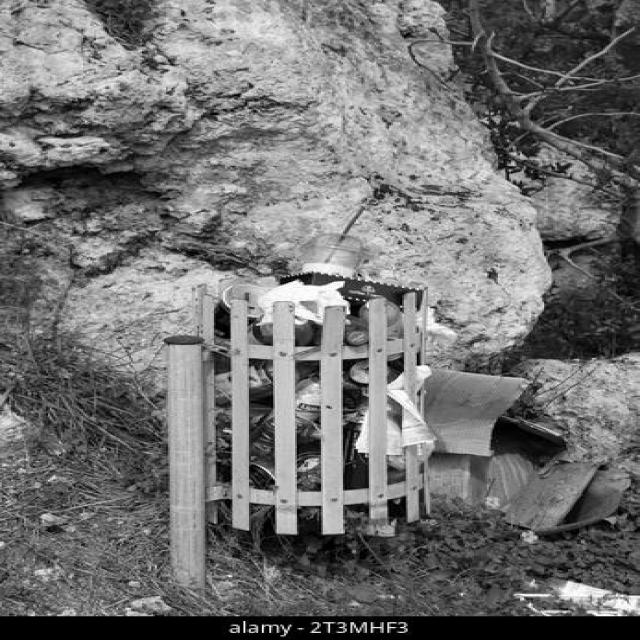trash: (225, 290, 402, 528)
